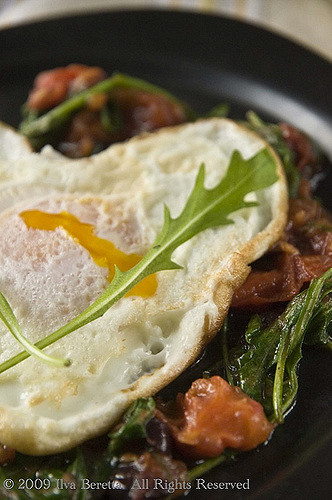fried egg: (6, 133, 268, 371)
